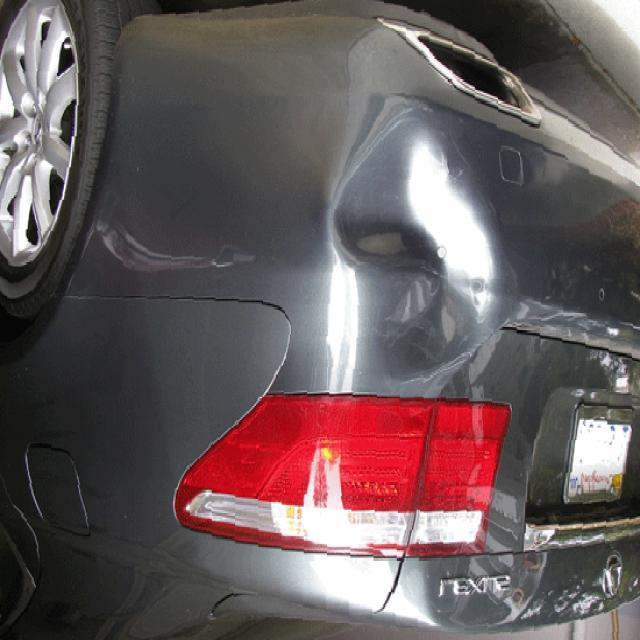dent: (310, 102, 506, 298)
